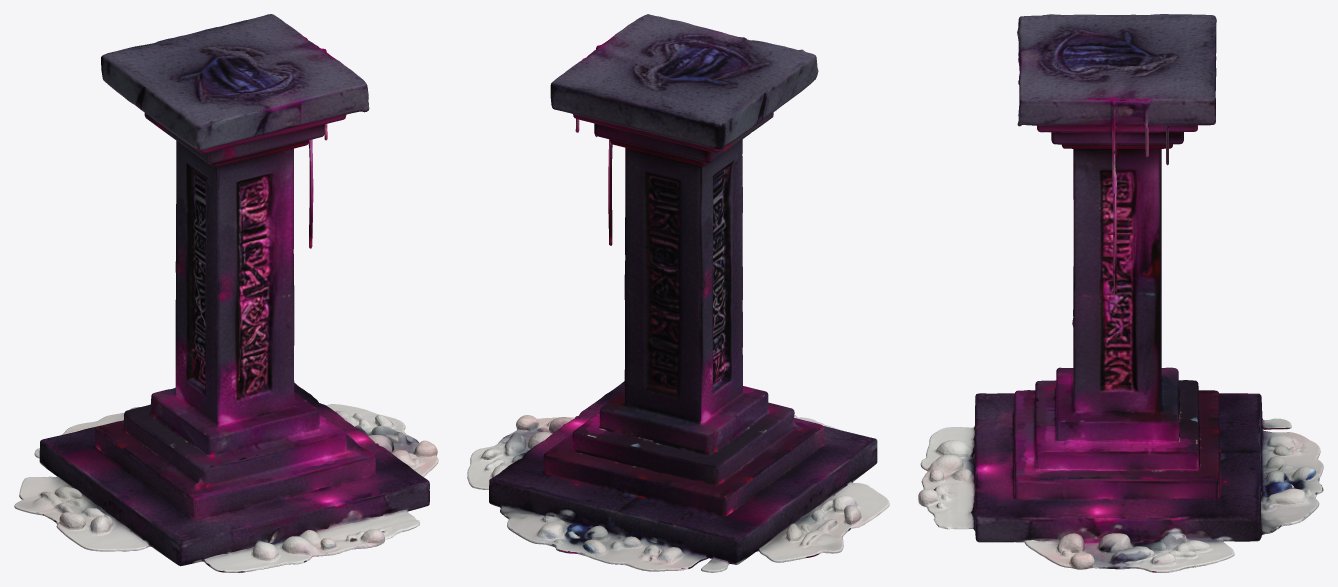
File: support-column-generated-2026-05-17T18-48-00-875Z.glb
3 views of the same model, side by side, from view 1: azimuth 30°, elevation 25°; view 2: azimuth 150°, elevation 25°; view 3: azimuth 270°, elevation 25° (orthographic).
Parts seen in each view (by area): view 1: temp_mesh.ply; view 2: temp_mesh.ply; view 3: temp_mesh.ply.
Boxes of the visible parts, <box> form: temp_mesh.ply: <box>14,14,438,572</box>; temp_mesh.ply: <box>467,14,889,572</box>; temp_mesh.ply: <box>918,14,1323,572</box>.
Size of the model in its own units: 1.86 by 1.97 by 1.71.
1 material, 1 textured.
